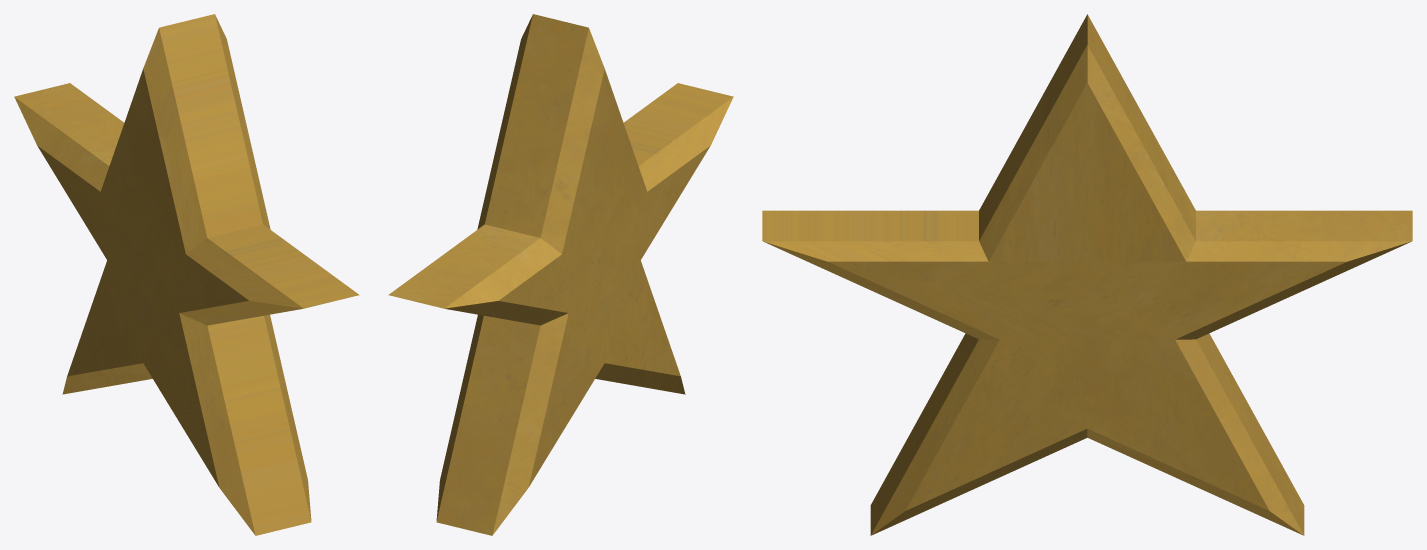
File: star.gltf
The picture shows the model from 3 angles, left to right: view 1: azimuth 30°, elevation 25°; view 2: azimuth 150°, elevation 25°; view 3: azimuth 270°, elevation 25°; orthographic projection. The views are drawn at different scales.
Visible parts, largest first — view 1: Plane; view 2: Plane; view 3: Plane.
Boxes of the visible parts, x1,y1,x2,y2 form: Plane: [14, 14, 359, 535]; Plane: [388, 14, 733, 535]; Plane: [762, 14, 1412, 535].
Bounding box in the file's own units: 1 × 5 × 6.
1 material, 1 textured.
